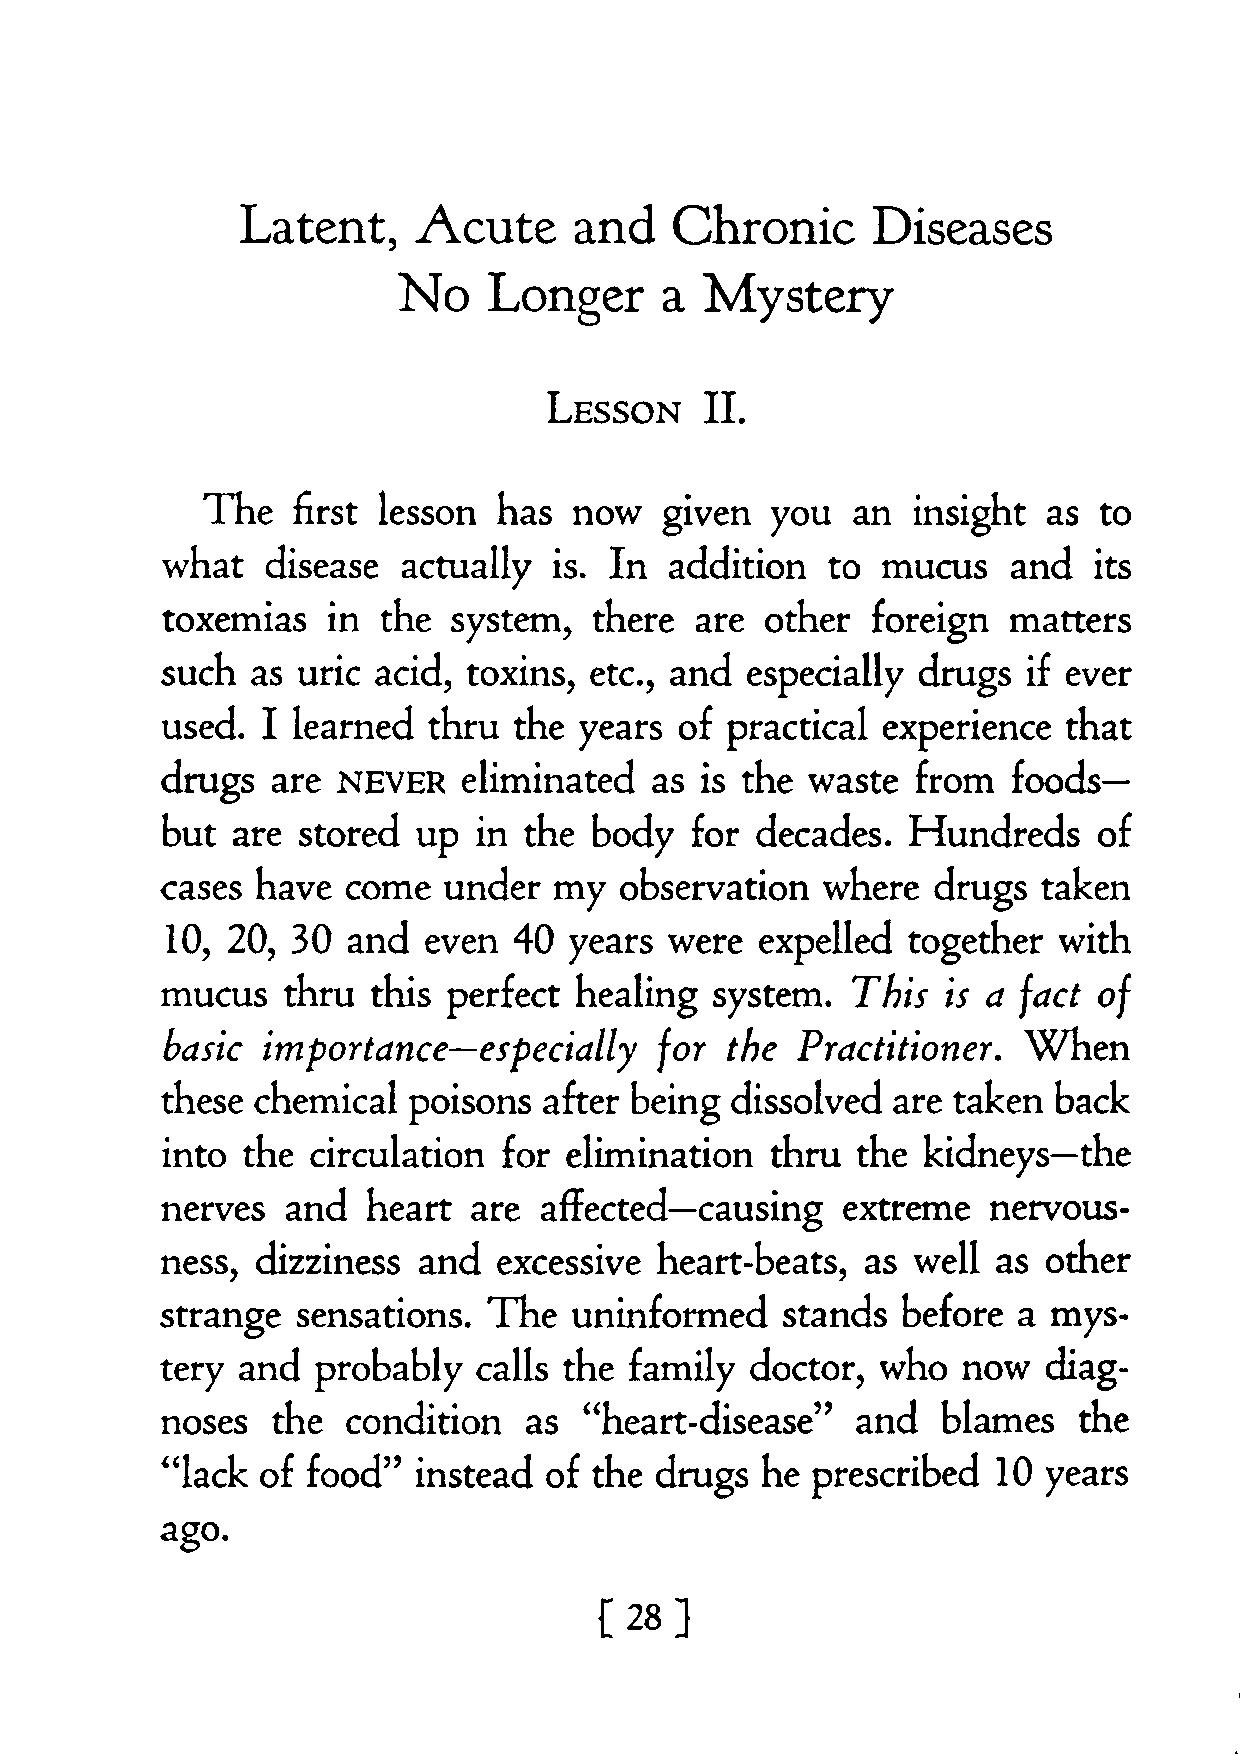chapter: (238, 200, 1053, 326), (545, 386, 747, 428)
content: (158, 487, 1134, 1557)
content_pagenumber: (625, 1600, 662, 1635)
